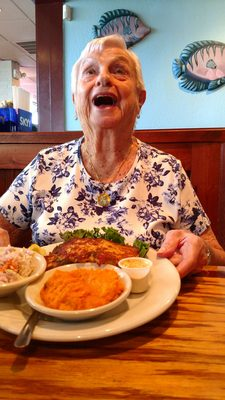pizza: (118, 256, 153, 295)
salad: (14, 310, 40, 348)
sushi: (25, 262, 133, 322), (0, 247, 46, 299)
